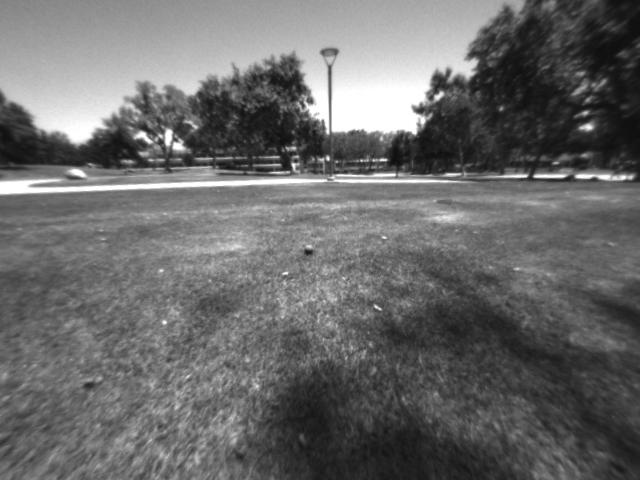dogtoy: (295, 234, 325, 259)
